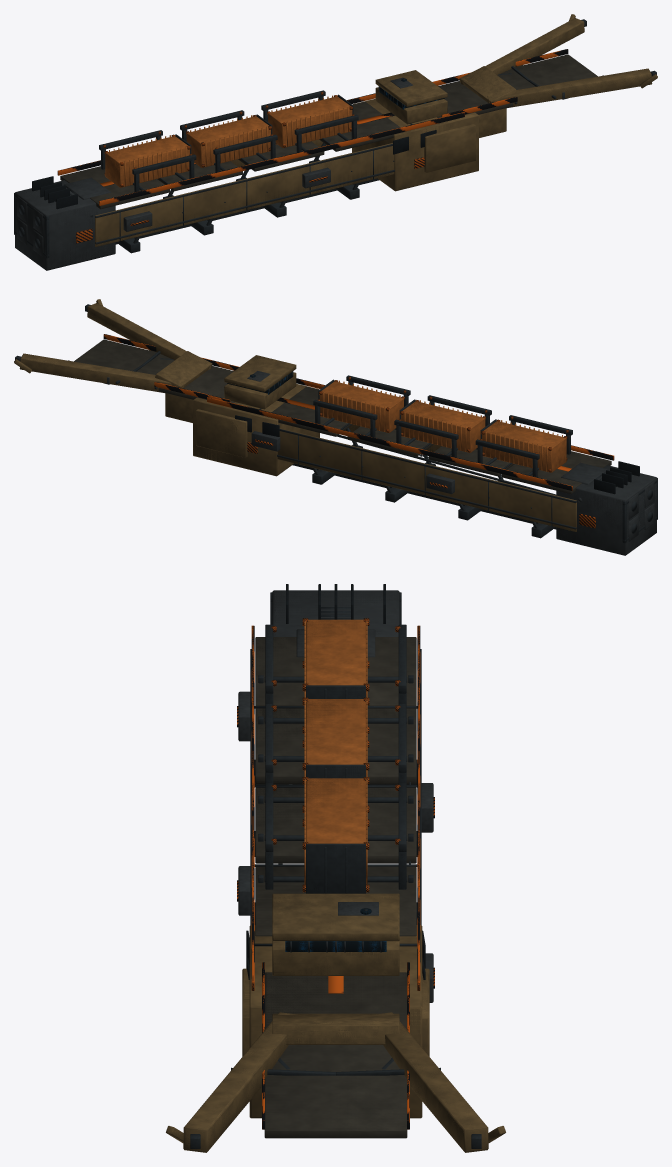
Rendered from place_conveyor_barge.glb.
The picture shows the model from 3 angles, top to bottom: view 1: azimuth 30°, elevation 25°; view 2: azimuth 150°, elevation 25°; view 3: azimuth 270°, elevation 25°; orthographic projection. The views are drawn at different scales.
Parts seen in each view (by area): view 1: LOD1_Barge_Material_Hull, LOD0_Barge_Material_Hull, LOD2_Barge_Material_Hull, LOD0_Barge_Material_Drive, LOD0_Barge_Material_Deck, LOD0_Barge_Material_Container, LOD1_Barge_Material_Structure, LOD2_Barge_Material_Structure, LOD0_Barge_Material_Structure, LOD1_Barge_Material_Container, LOD2_Barge_Material_Deck, LOD0_Barge_Material_Safety (+9 smaller); view 2: LOD0_Barge_Material_Hull, LOD2_Barge_Material_Hull, LOD0_Barge_Material_Deck, LOD1_Barge_Material_Hull, LOD0_Barge_Material_Drive, LOD0_Barge_Material_Container, LOD2_Barge_Material_Structure, LOD0_Barge_Material_Structure, LOD1_Barge_Material_Structure, LOD1_Barge_Material_Container, LOD1_Barge_Material_Deck, LOD2_Barge_Material_Container (+9 smaller); view 3: LOD2_Barge_Material_Deck, LOD0_Barge_Material_Deck, LOD0_Barge_Material_Hull, LOD1_Barge_Material_Hull, LOD0_Barge_Material_Structure, LOD0_Barge_Material_Container, LOD2_Barge_Material_Hull, LOD1_Barge_Material_Deck, LOD1_Barge_Material_Structure, LOD0_Barge_Material_Drive, LOD2_Barge_Material_Structure, LOD2_Barge_Material_Container (+8 smaller).
Boxes of the visible parts, x1,y1,x2,y2 form: LOD1_Barge_Material_Hull: (95, 14, 657, 246); LOD0_Barge_Material_Hull: (96, 15, 657, 245); LOD2_Barge_Material_Hull: (95, 14, 657, 246); LOD0_Barge_Material_Drive: (15, 78, 565, 268); LOD0_Barge_Material_Deck: (61, 55, 597, 207); LOD0_Barge_Material_Container: (105, 95, 349, 186); LOD1_Barge_Material_Structure: (14, 19, 656, 257); LOD2_Barge_Material_Structure: (14, 21, 656, 258); LOD0_Barge_Material_Structure: (14, 19, 655, 257); LOD1_Barge_Material_Container: (105, 99, 351, 187); LOD2_Barge_Material_Deck: (60, 55, 597, 209); LOD0_Barge_Material_Safety: (58, 49, 567, 243); LOD0_Barge_Material_Hull: (14, 299, 575, 531); LOD2_Barge_Material_Hull: (14, 299, 576, 531); LOD0_Barge_Material_Deck: (74, 340, 609, 492); LOD1_Barge_Material_Hull: (14, 299, 576, 531); LOD0_Barge_Material_Drive: (106, 371, 654, 553); LOD0_Barge_Material_Container: (322, 380, 566, 471); LOD2_Barge_Material_Structure: (15, 304, 657, 543); LOD0_Barge_Material_Structure: (15, 305, 652, 542); LOD1_Barge_Material_Structure: (15, 304, 657, 542); LOD1_Barge_Material_Container: (320, 382, 566, 472); LOD1_Barge_Material_Deck: (74, 340, 611, 493); LOD2_Barge_Material_Container: (319, 382, 566, 472); LOD2_Barge_Material_Deck: (255, 637, 416, 1138); LOD0_Barge_Material_Deck: (257, 637, 414, 1136); LOD0_Barge_Material_Hull: (167, 894, 504, 1150); LOD1_Barge_Material_Hull: (166, 894, 505, 1152); LOD0_Barge_Material_Structure: (191, 593, 480, 1148); LOD0_Barge_Material_Container: (304, 620, 367, 884); LOD2_Barge_Material_Hull: (166, 893, 505, 1152); LOD1_Barge_Material_Deck: (255, 637, 416, 1137); LOD1_Barge_Material_Structure: (190, 592, 481, 1148); LOD0_Barge_Material_Drive: (238, 591, 433, 1002); LOD2_Barge_Material_Structure: (190, 592, 481, 1148); LOD2_Barge_Material_Container: (306, 619, 365, 842).
Size of the model in its own units: 72.85 by 10.03 by 18.15.
Materials: 9 (9 with a texture image).
